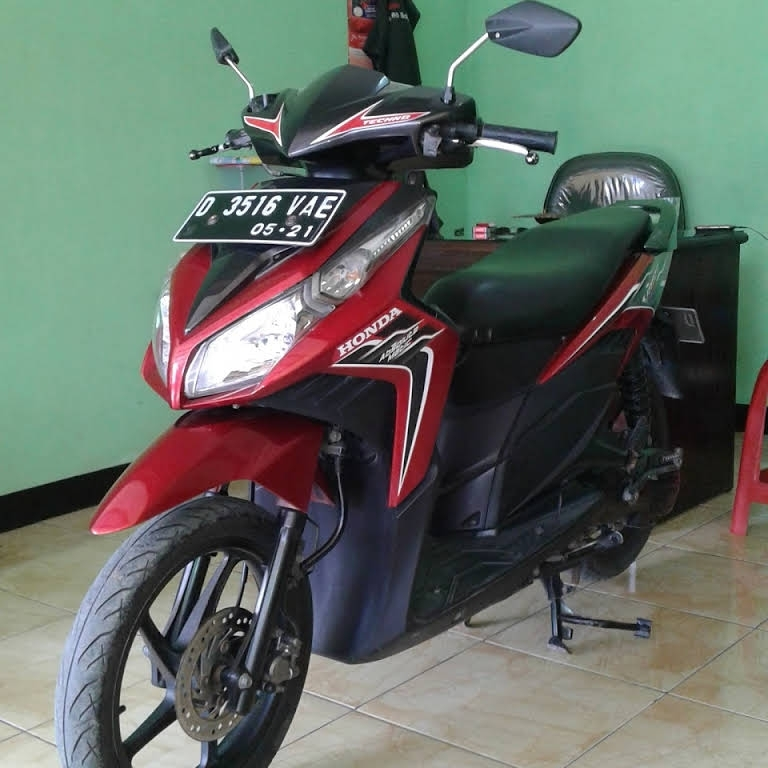plate: (179, 191, 339, 249)
